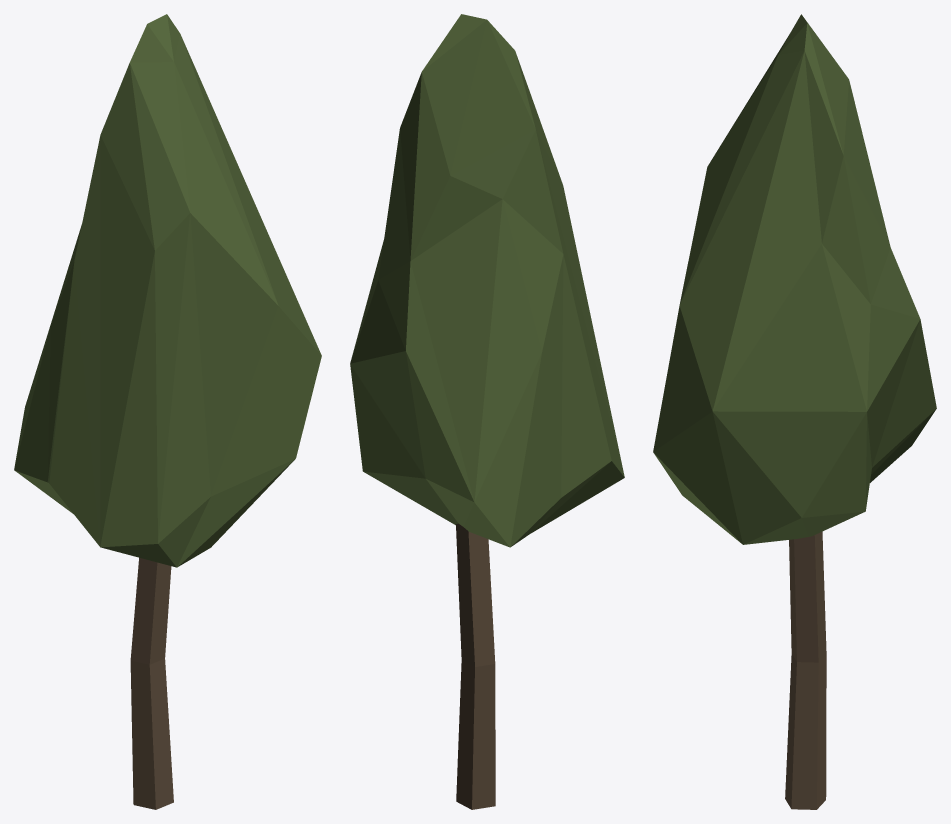
Rendered from tree_65.fbx.
The picture shows the model from 3 angles, left to right: view 1: azimuth 30°, elevation 25°; view 2: azimuth 150°, elevation 25°; view 3: azimuth 270°, elevation 25°; orthographic projection.
Parts seen in each view (by area): view 1: tree_065; view 2: tree_065; view 3: tree_065.
Boxes of the visible parts, left/top/right/bottom form: tree_065: left=14, top=14, right=321, bottom=809; tree_065: left=350, top=14, right=624, bottom=809; tree_065: left=653, top=14, right=936, bottom=809.
Bounding box in the file's own units: 0.5759 × 1.78 × 0.5823.
Materials: 1 (1 with a texture image).
